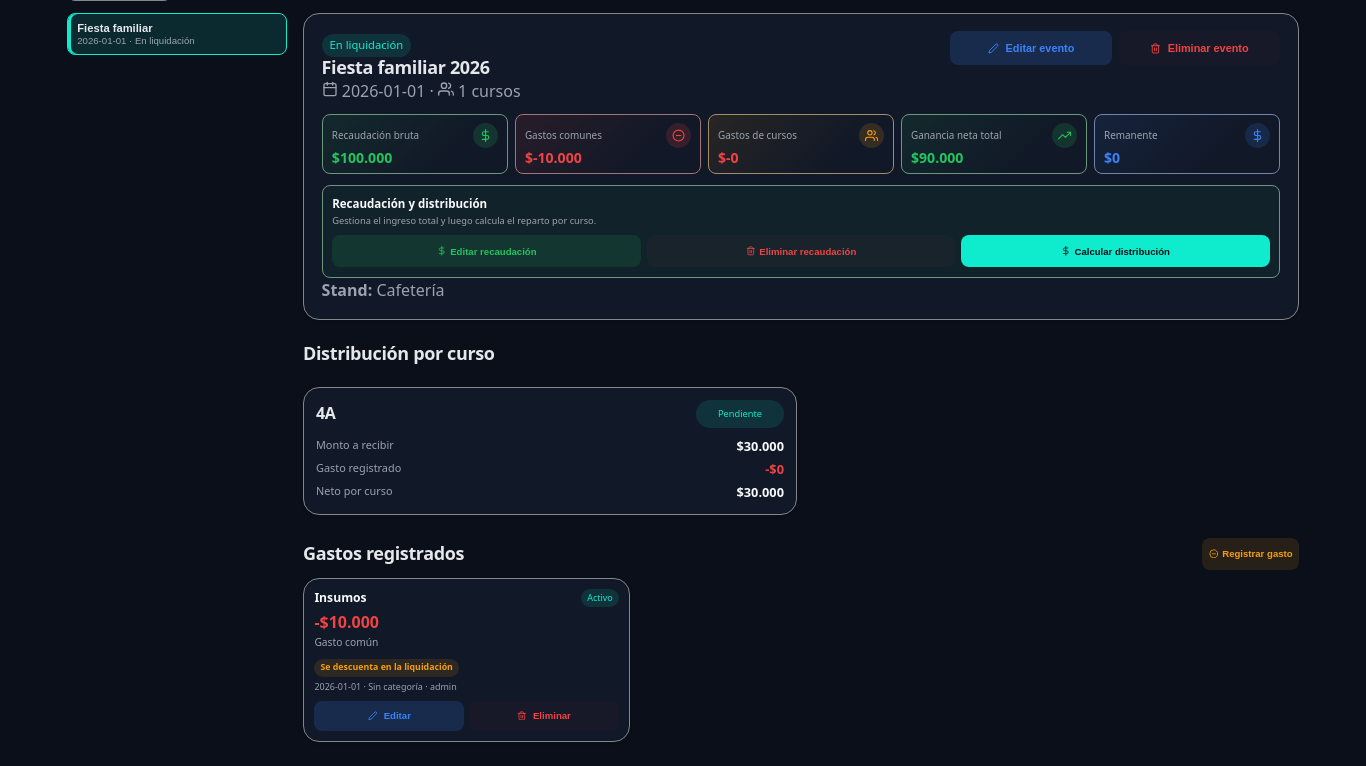
Test: school events connected to HTTP › edits an expense and keeps the form open when the server rejects it
(page scrolled)
Click the button "Editar" at (389, 716), box [314,701,464,731]
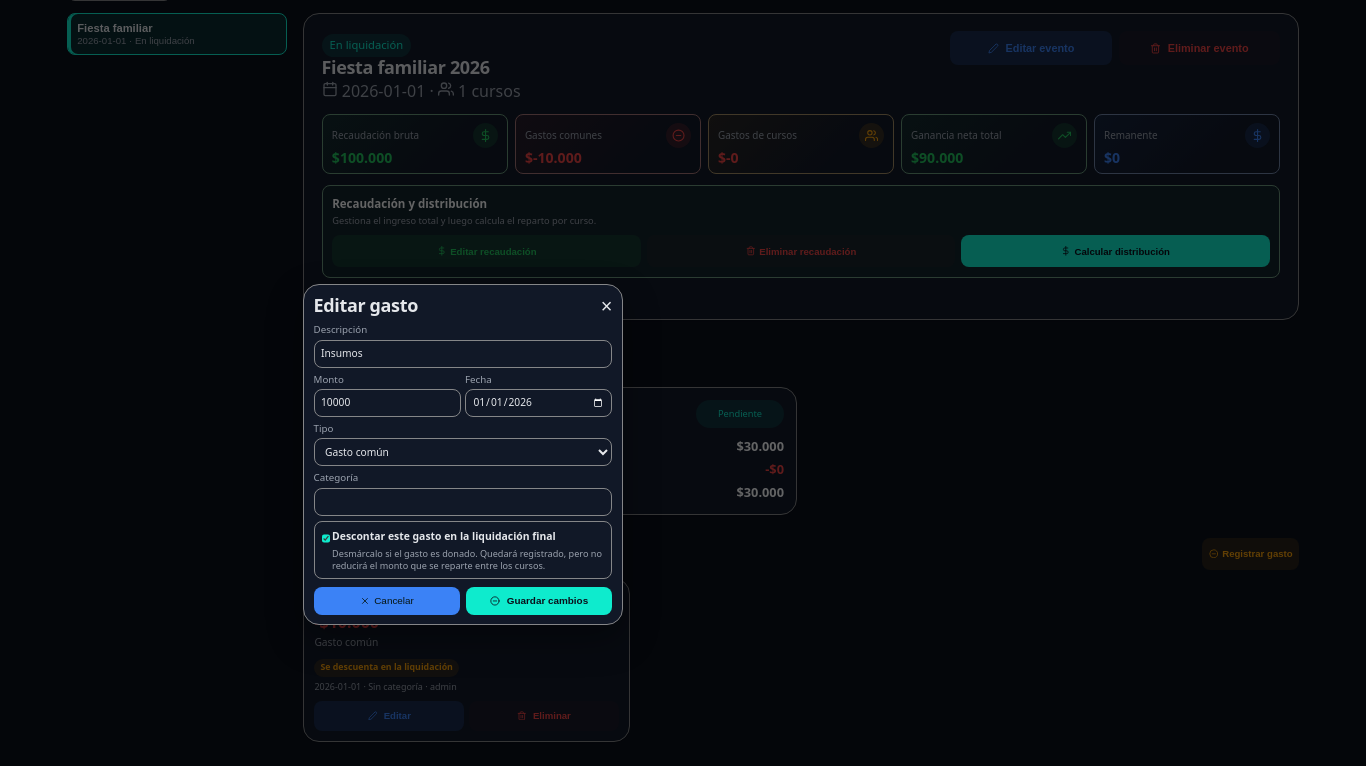
Result: the field labelled "Descripción" holds "Insumos" at [314,340,612,368]
Replace the text in the number field labelled "Monto" with "20000" at (387, 403), box [314,389,461,417]
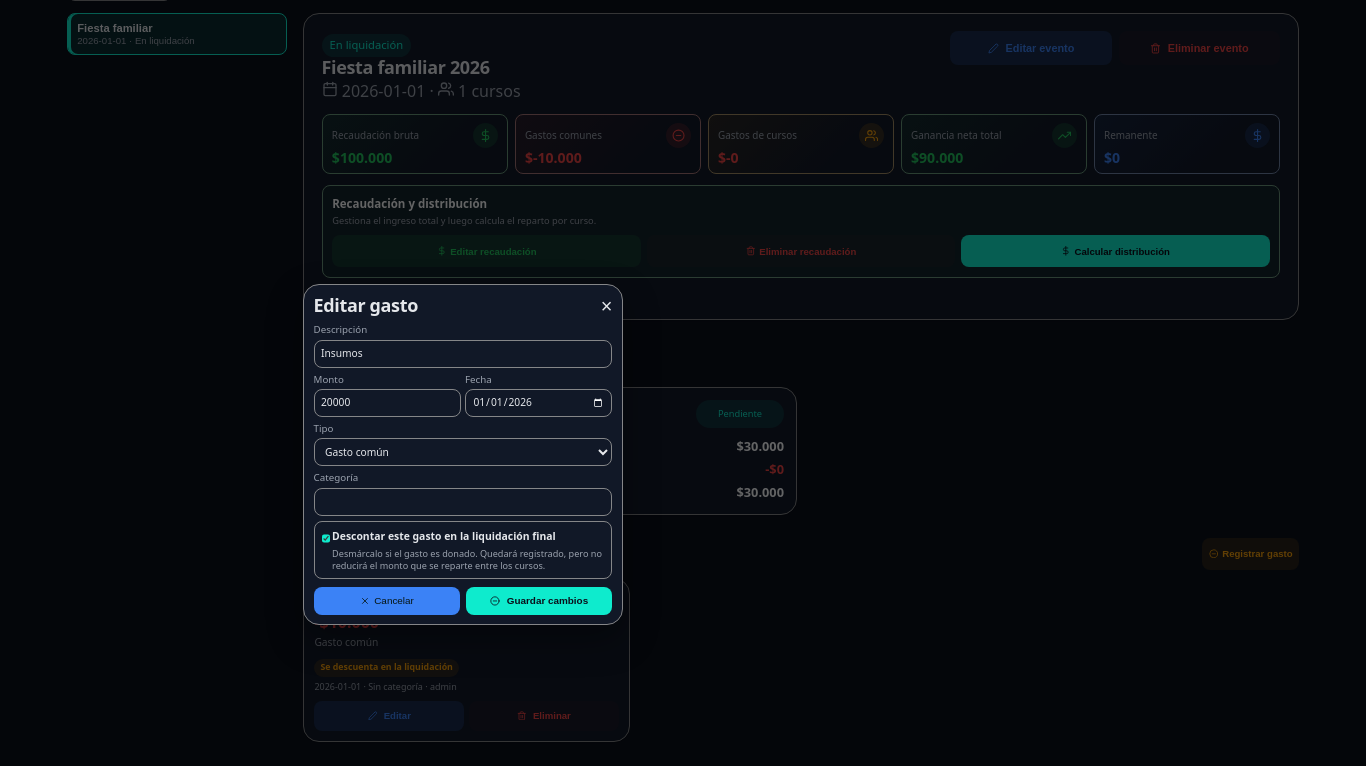
Click the button "Guardar cambios" at (539, 600), box [466,586,612,614]
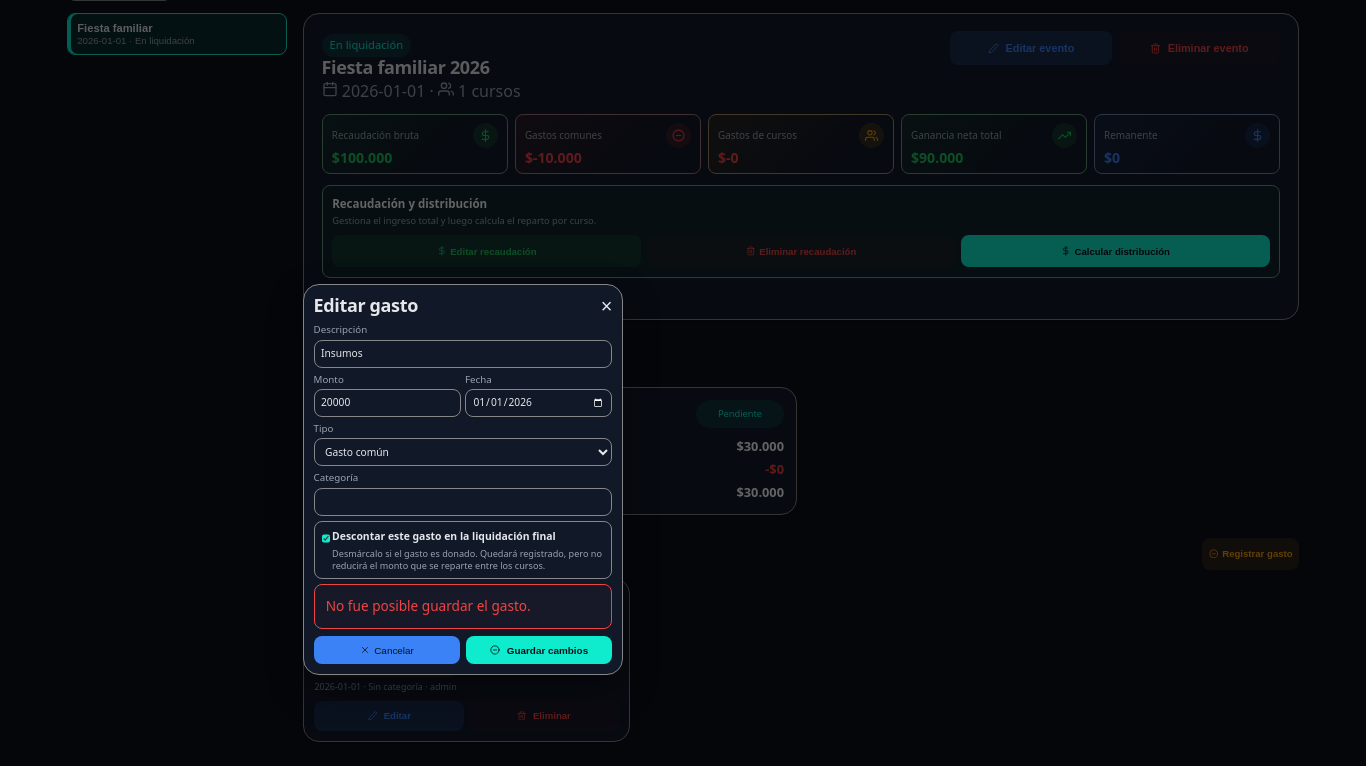
Result: the text "No fue posible guardar el gasto." is shown at [314,584,612,629]
Click the button "Guardar cambios" at (539, 650), box [466,636,612,664]
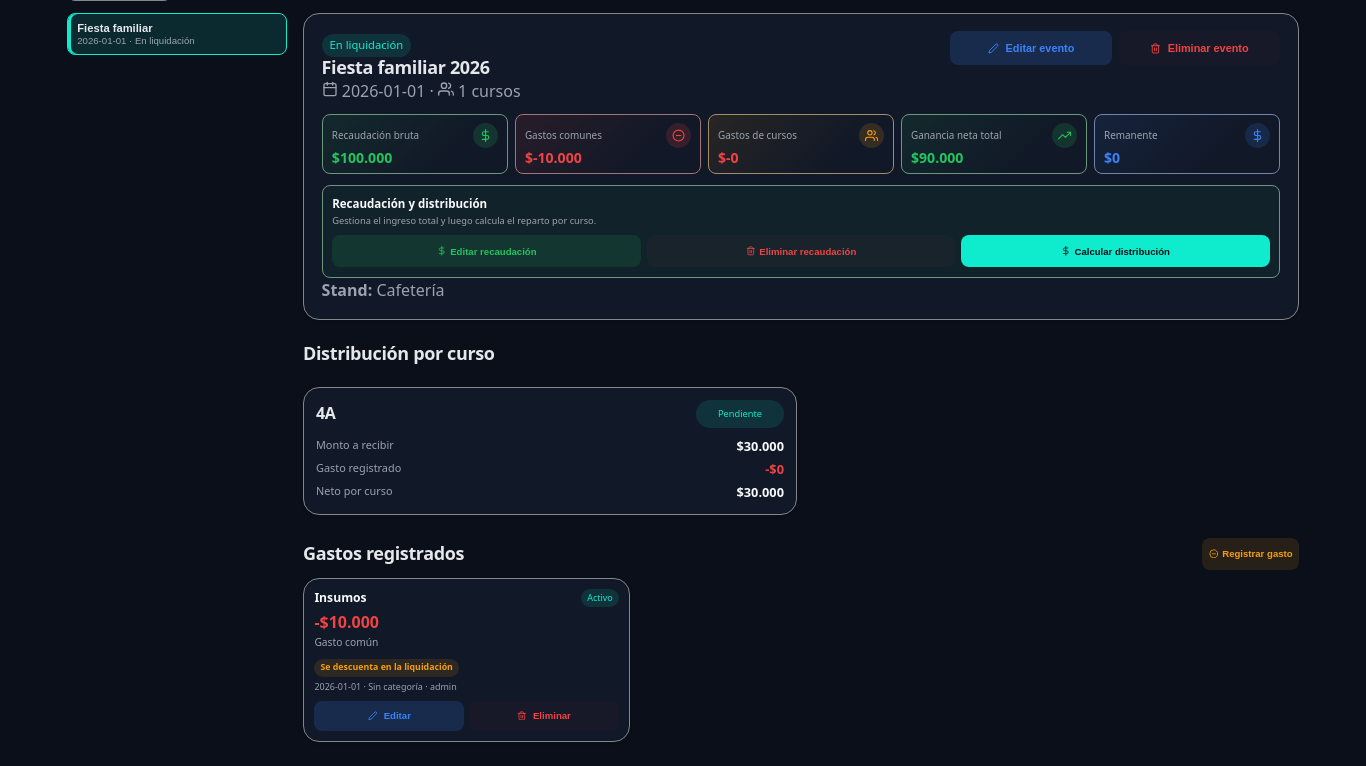
Result: the dialog is gone
